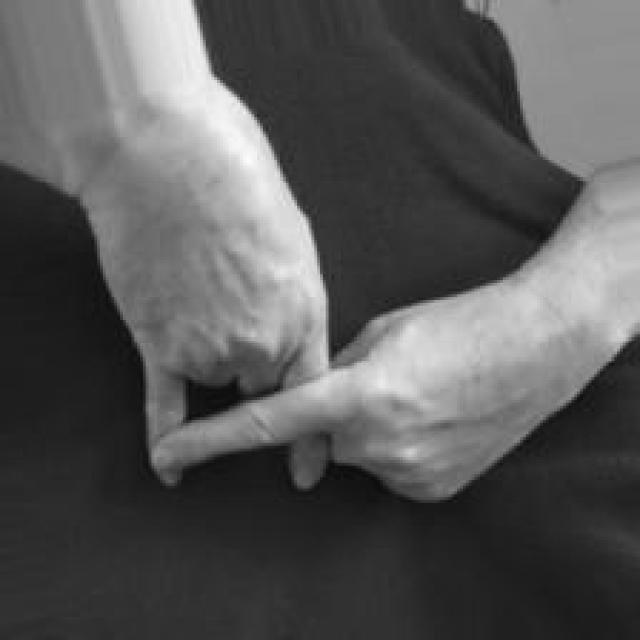H: (92, 169, 550, 505)
